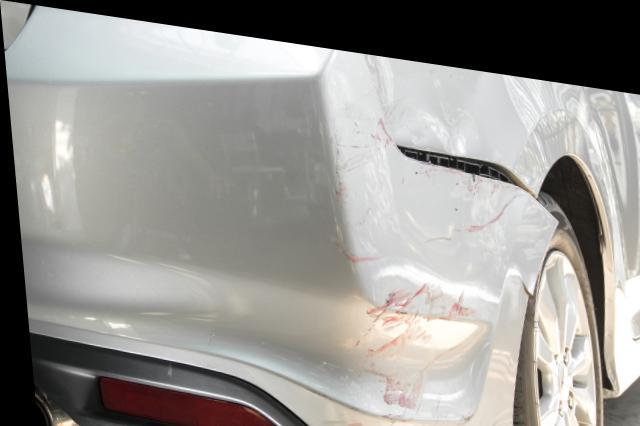crack: (517, 264, 529, 280)
dislocated part: (361, 133, 558, 426)
scratch: (323, 103, 521, 258), (318, 268, 506, 426)
